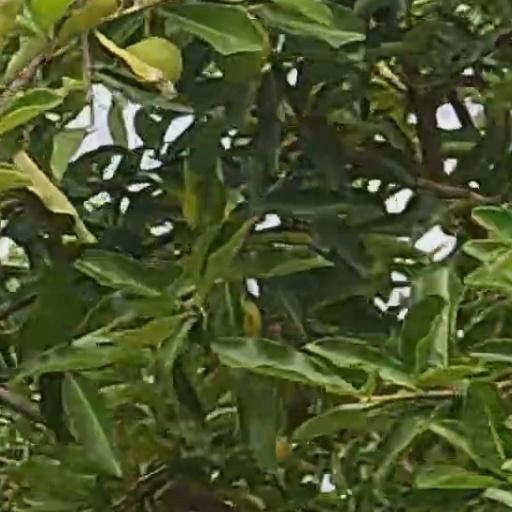acerola: (131, 39, 182, 83)
